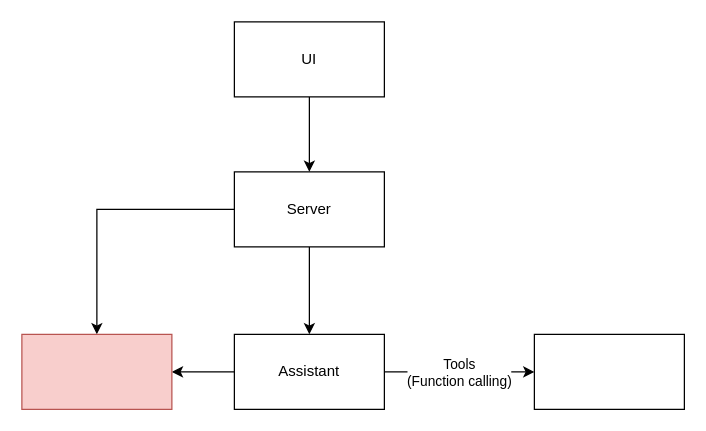
Image size: 706x431. Some labels were removed from this diagram. Here are the shapes that lost their labels. From the top down, the centre of each, then its label:
At (x=96, y=371): "LangChain4j OpenAI gpt-4o".
At (x=608, y=371): "Discogs".
